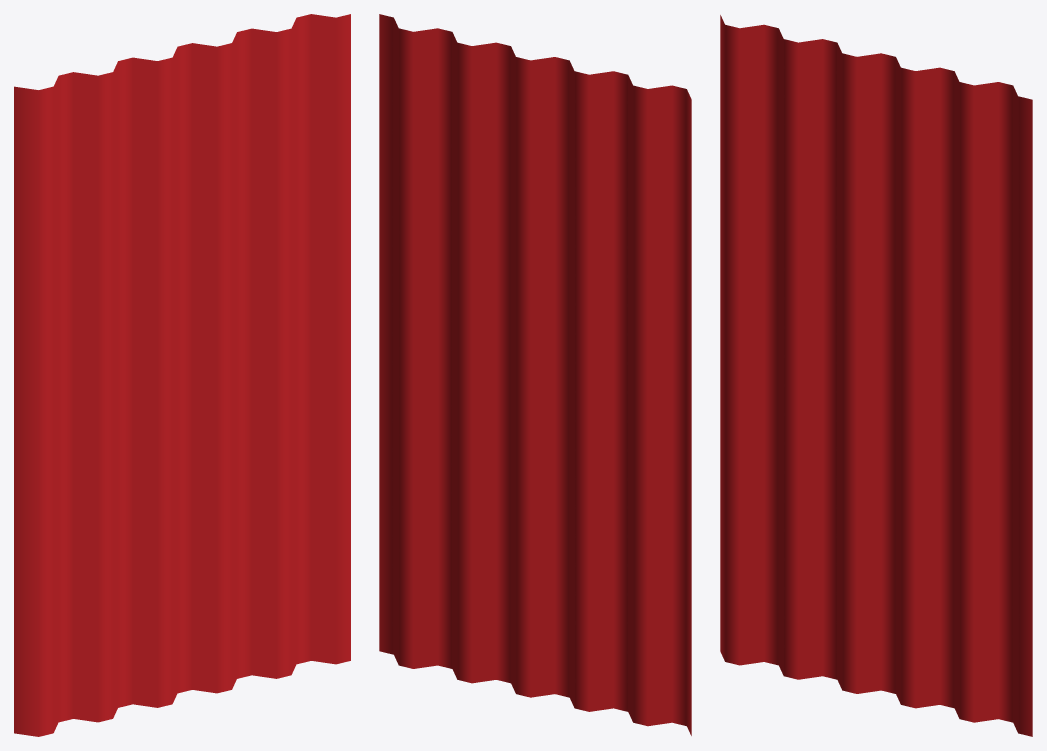
File: curtains.glb
3 views of the same model, side by side, from view 1: azimuth 30°, elevation 25°; view 2: azimuth 150°, elevation 25°; view 3: azimuth 330°, elevation 25° (orthographic).
Parts seen in each view (by area): view 1: Plane; view 2: Plane; view 3: Plane.
Boxes of the visible parts, <box> form: Plane: <box>14,14,350,736</box>; Plane: <box>379,14,691,735</box>; Plane: <box>720,15,1032,736</box>.
Size of the model in its own units: 2 by 3.78 by 0.1046.
